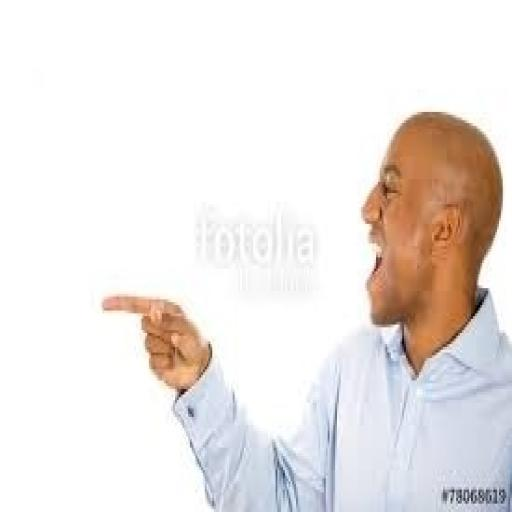laughing: (95, 95, 510, 509)
